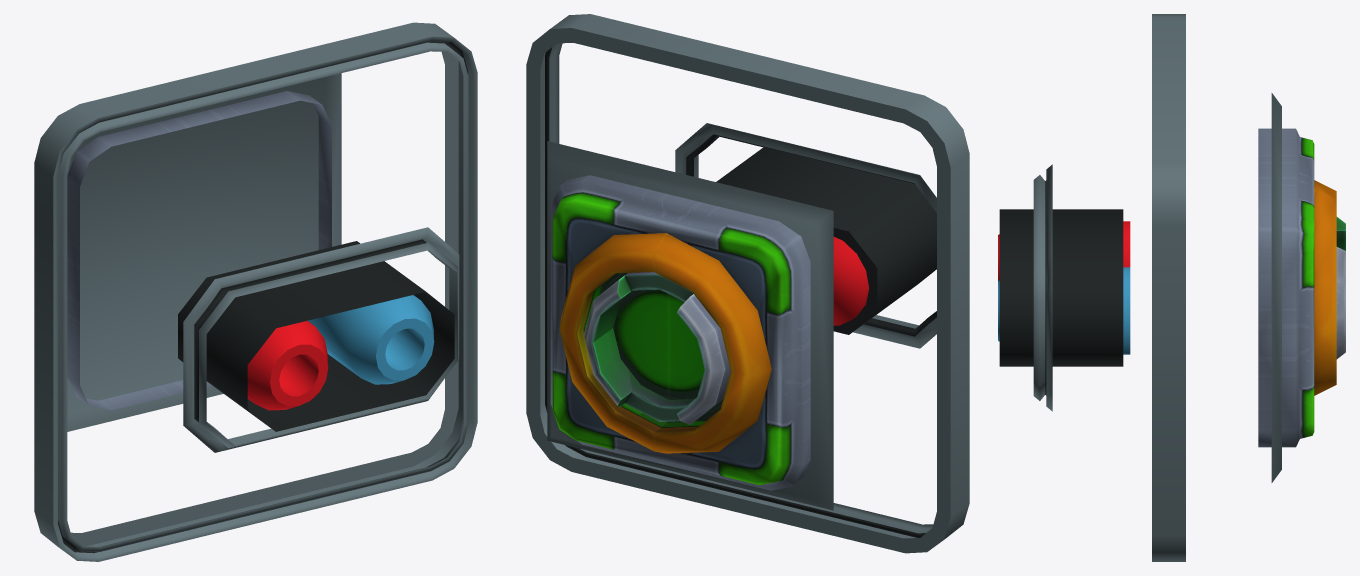
File: fant_fluidconnector.obj
3 views of the same model, side by side, from view 1: azimuth 30°, elevation 25°; view 2: azimuth 150°, elevation 25°; view 3: azimuth 270°, elevation 25° (orthographic). The views are drawn at different scales.
Visible parts, largest first — view 1: Fant_Fluidconnector_Cube.002; view 2: Fant_Fluidconnector_Cube.002; view 3: Fant_Fluidconnector_Cube.002.
Boxes of the visible parts, x1,y1,x2,y2 form: Fant_Fluidconnector_Cube.002: (34,22,477,561); Fant_Fluidconnector_Cube.002: (526,14,969,553); Fant_Fluidconnector_Cube.002: (998,14,1345,561).
Size of the model in its own units: 2.99 by 2.99 by 2.38.
